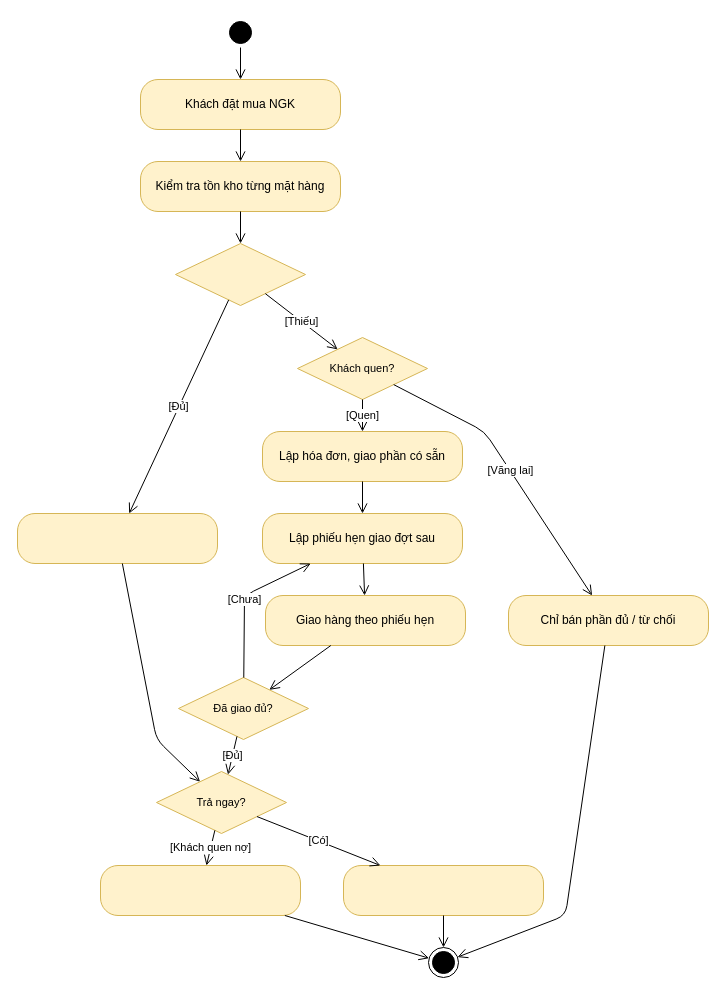
This 726x995 diagram has some shape labels left out. The centre of each missing label's shape, as x and y in pixels:
"Lập hóa đơn, giao hàng ngay" belongs at point (117, 538).
"Lập phiếu ghi nợ" belongs at point (200, 890).
"Thanh toán hóa đơn" belongs at point (443, 890).
"Đủ hàng?" belongs at point (240, 274).
